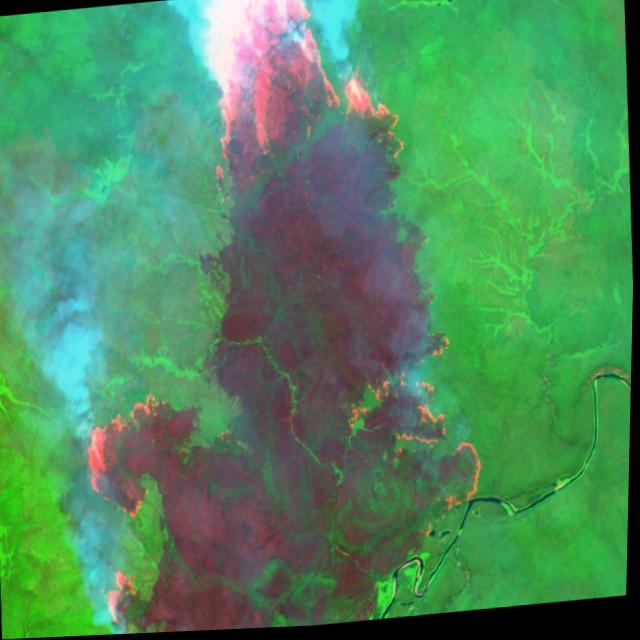fire: (185, 0, 414, 207), (335, 322, 494, 540), (73, 384, 191, 637)
